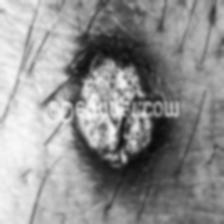Toxin: (73, 120, 158, 168), (80, 58, 150, 100)
